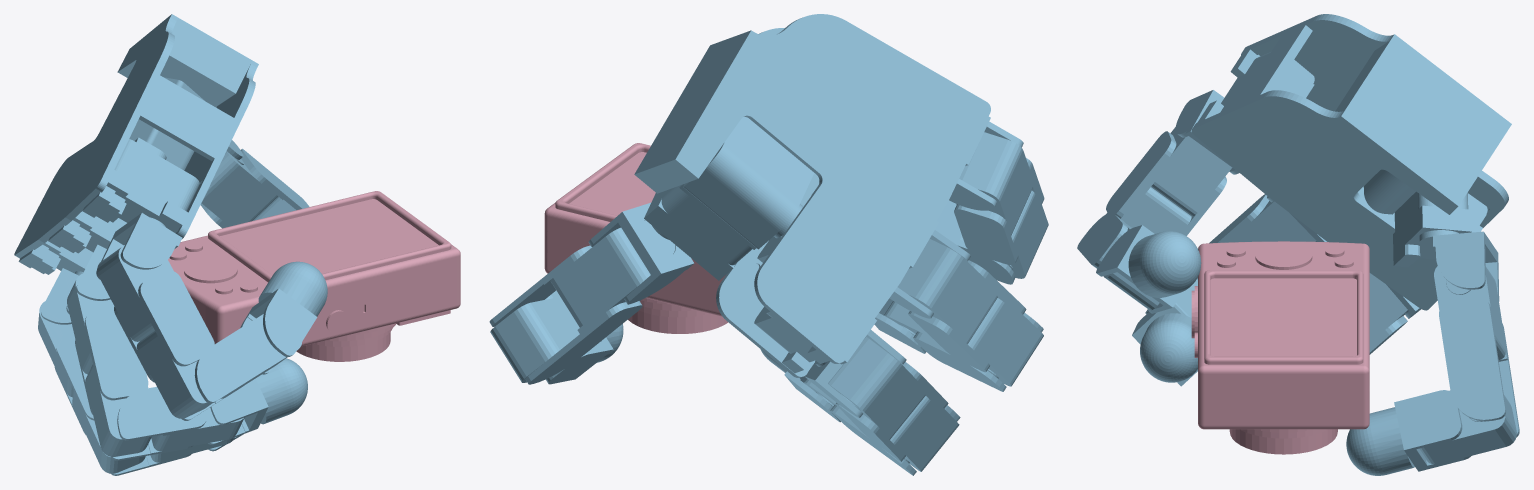
3 views of the same model, side by side, from view 1: azimuth 30°, elevation 25°; view 2: azimuth 150°, elevation 25°; view 3: azimuth 270°, elevation 25° (orthographic). The views are drawn at different scales.
Visible parts, largest first — view 1: world; view 2: world; view 3: world.
Part boxes in pixels (<box>): world: <box>14,14,460,475</box>; world: <box>489,14,1048,475</box>; world: <box>1077,14,1519,475</box>.
Size of the model in its own units: 0.1669 by 0.1807 by 0.1668.
